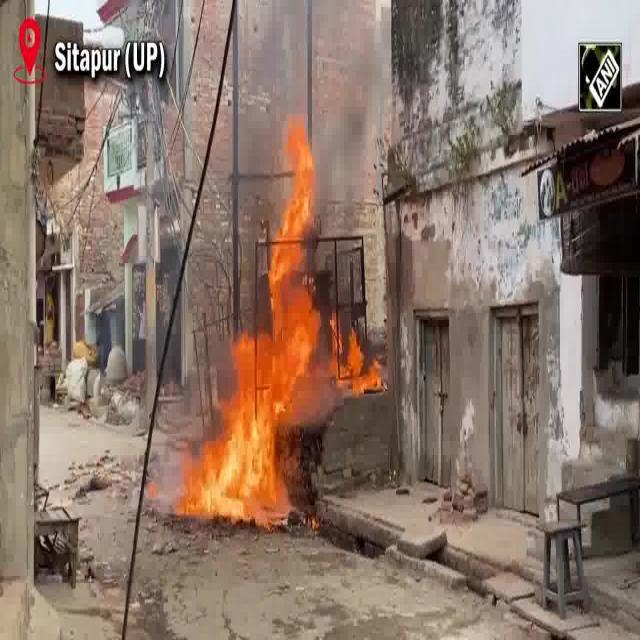Fire: (201, 172, 346, 522)
